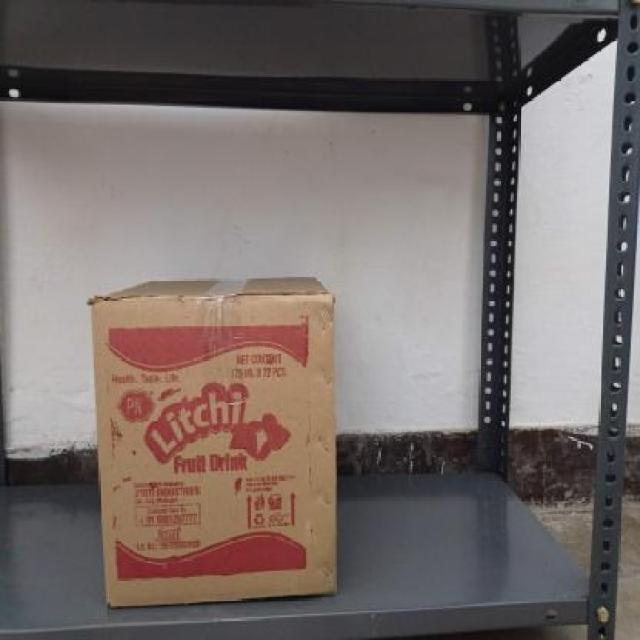box: (87, 296, 340, 595)
